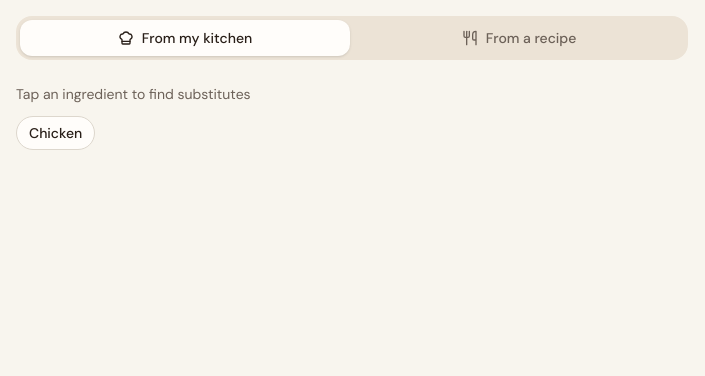
Test: SubstitutesScreen — ingredients-only character counter › shows "0 / 2,000" initially in ingredients-only mode
The width and height of the screenshot is (705, 376).
Click the button "From a recipe": (519, 38) [354,20,684,56]
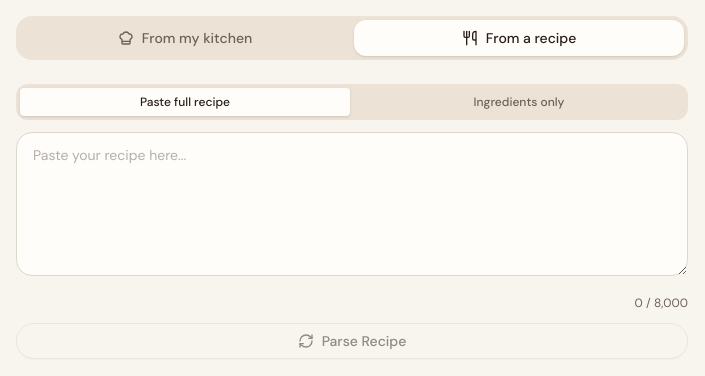
Click the button "Ingredients only": (519, 102) [354,88,684,116]
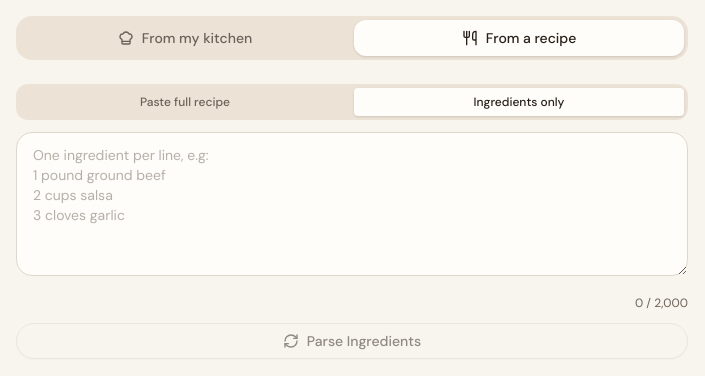
Now the text "0 / 2,000" is shown, box [635,295,688,311]
